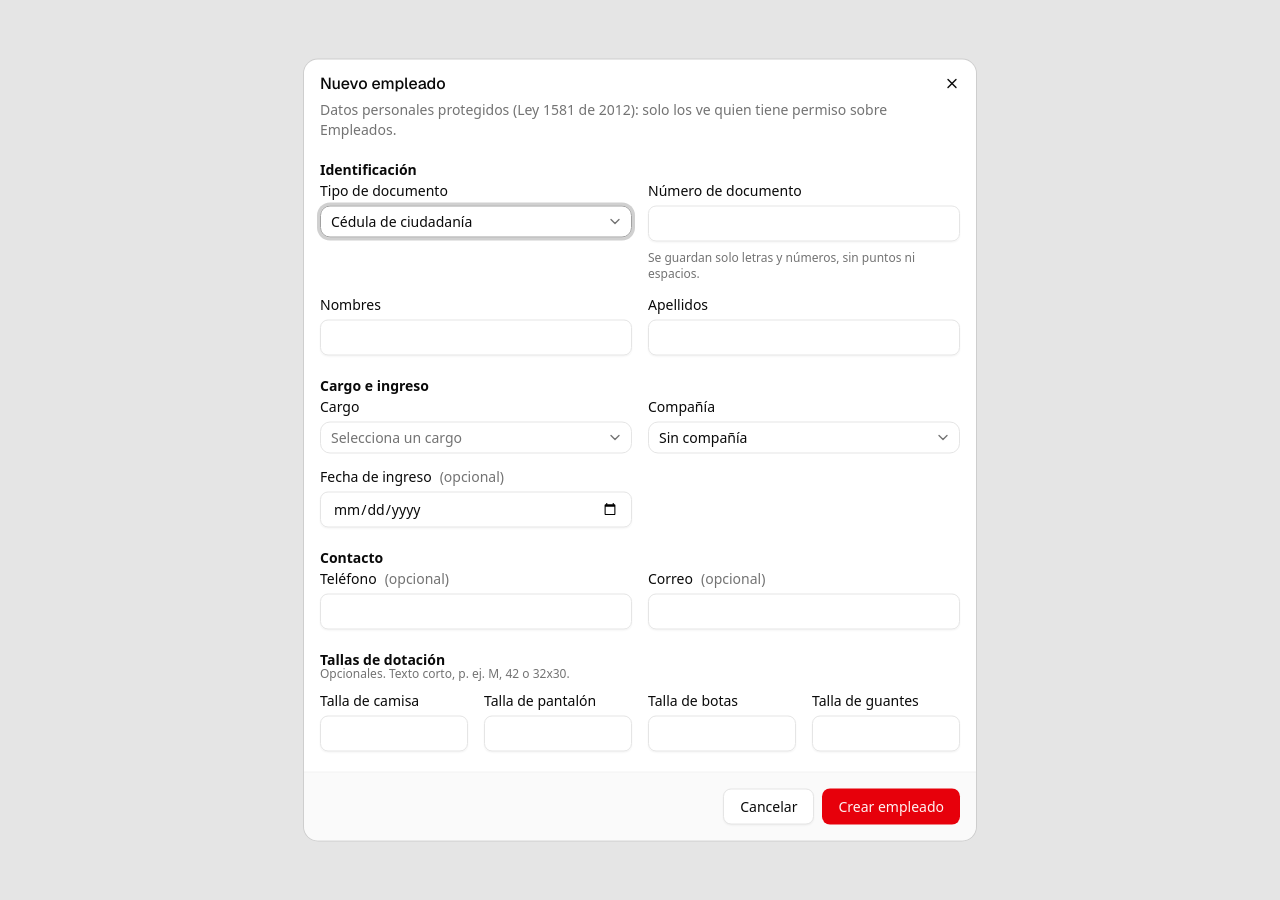
Test: EmployeeFormDialog (004 US1, FR-002, FR-003, RN-021) › valida en el cliente antes de enviar
The width and height of the screenshot is (1280, 900).
In the field labelled "Correo (opcional)": (804, 612) [648, 594, 960, 630], type "no-es-correo"
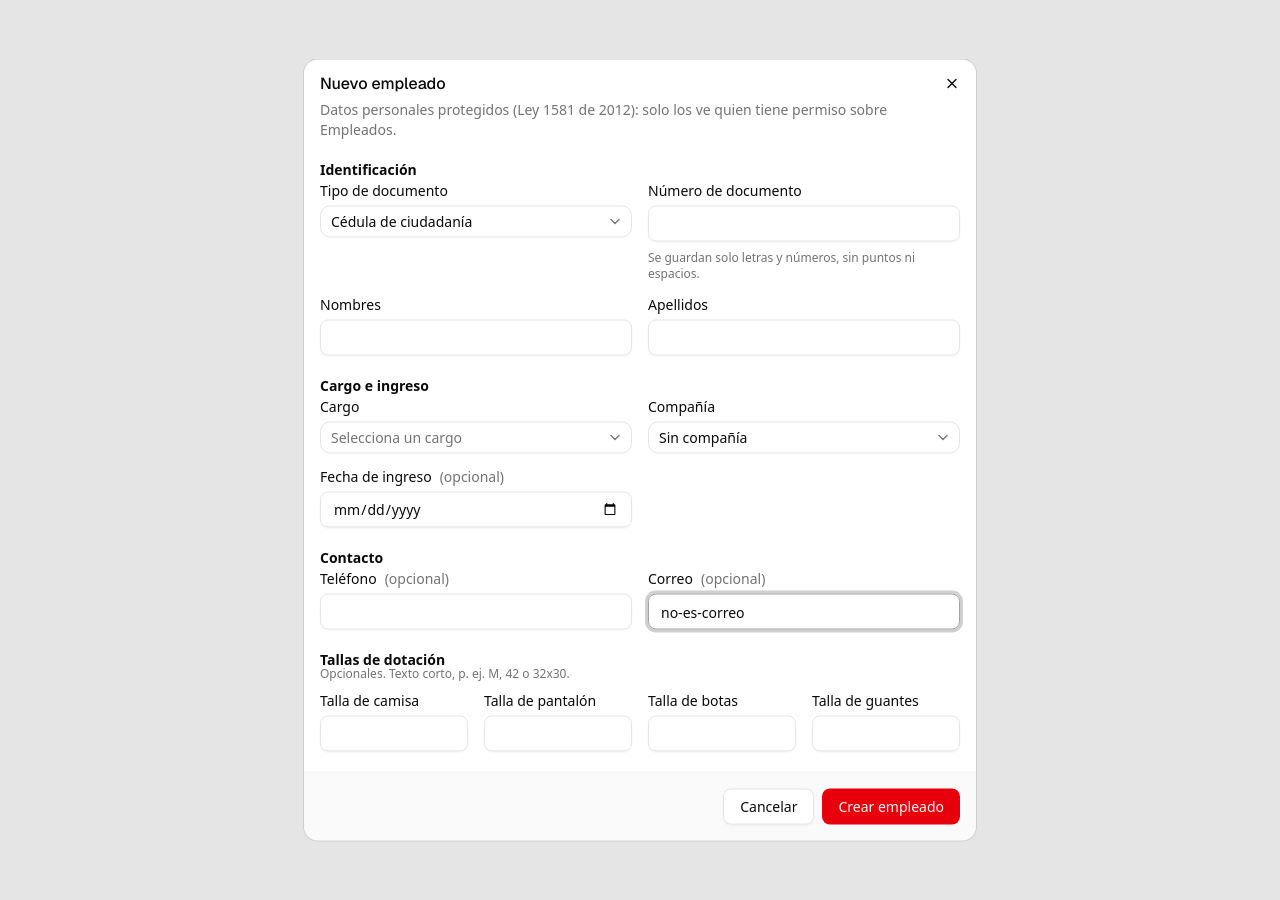
Click the button "Crear empleado": (891, 806) [822, 788, 960, 824]
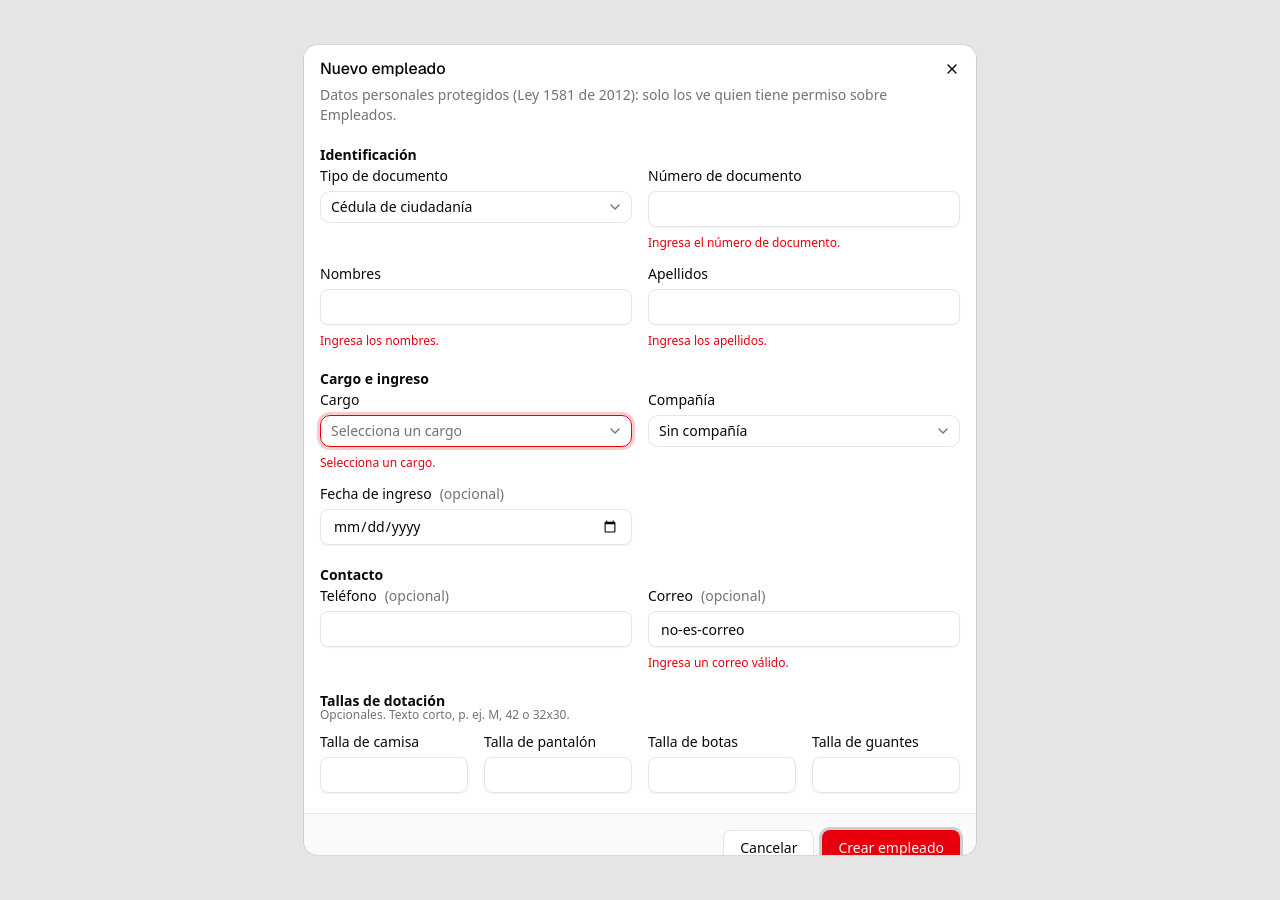
Result: the text "Ingresa el número de documento." is shown at [648, 234, 840, 251]
Result: the text "Ingresa los nombres." is shown at [320, 332, 439, 349]
Result: the text "Ingresa los apellidos." is shown at [648, 332, 767, 349]
